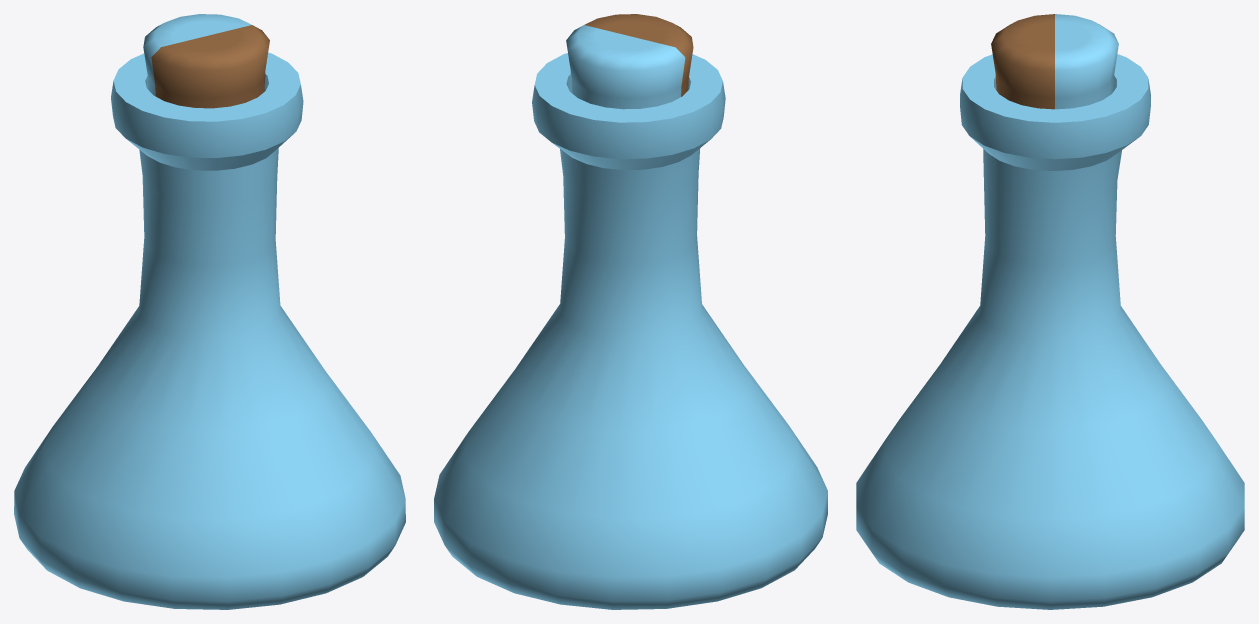
File: FlaskTriangular.fbx
3 renders of one model, left to right at view 1: azimuth 30°, elevation 25°; view 2: azimuth 150°, elevation 25°; view 3: azimuth 270°, elevation 25°, orthographic.
Parts seen in each view (by area): view 1: FlaskTriangular; view 2: FlaskTriangular; view 3: FlaskTriangular.
Boxes of the visible parts, bbox=[...] form: FlaskTriangular: bbox=[14, 14, 405, 609]; FlaskTriangular: bbox=[434, 14, 827, 609]; FlaskTriangular: bbox=[856, 14, 1244, 609].
Size of the model in its own units: 18.8 by 26.63 by 18.6.
2 materials, 1 textured.
